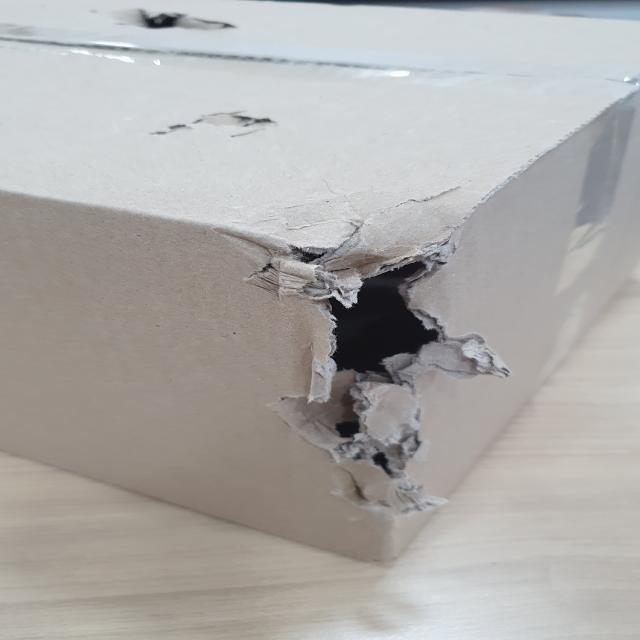hole: (267, 253, 461, 470), (105, 3, 245, 39)
